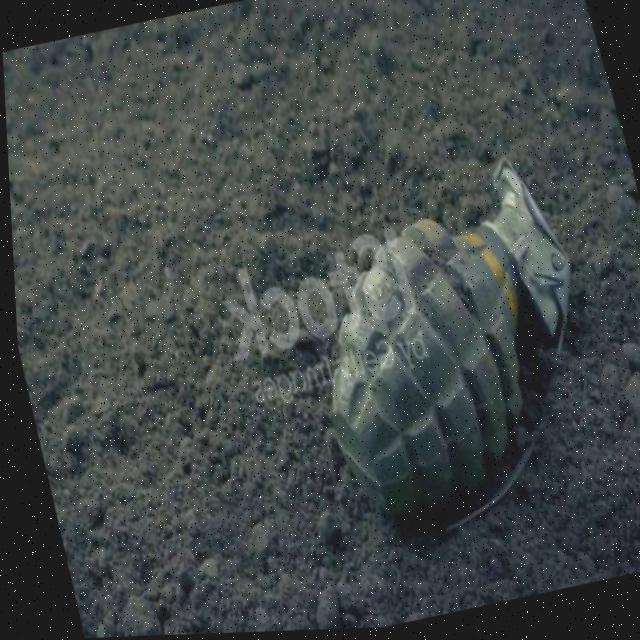grenade: (261, 139, 640, 574)
